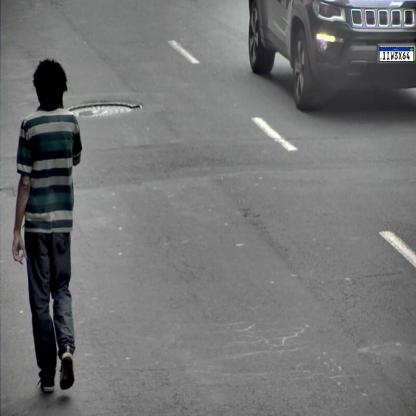PlacaM: (379, 47, 414, 62)
